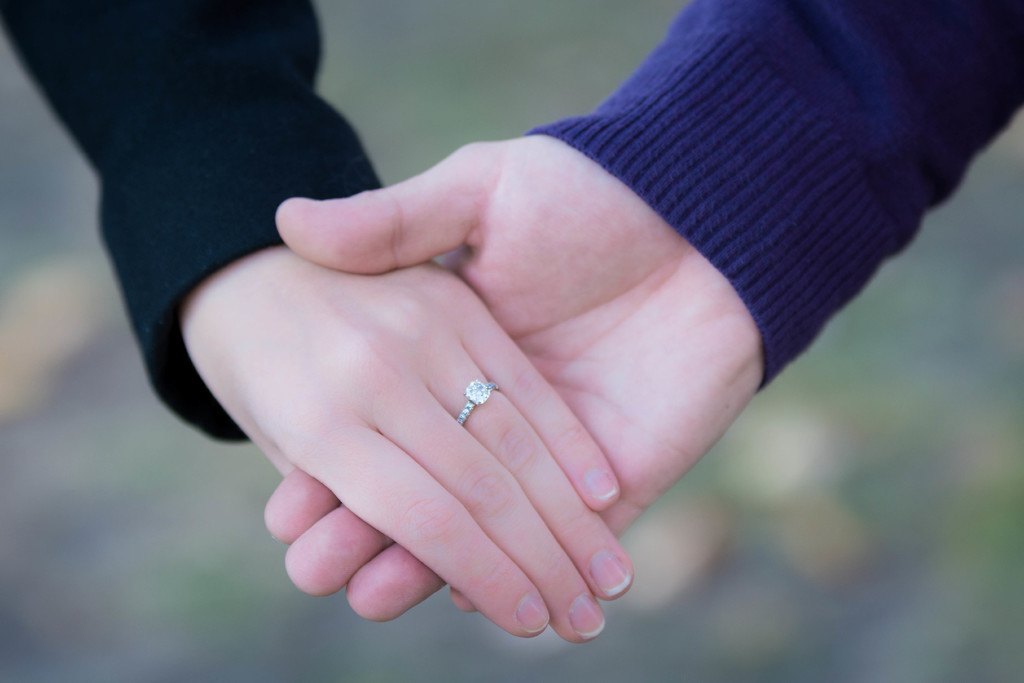Person: (263, 0, 1024, 622)
